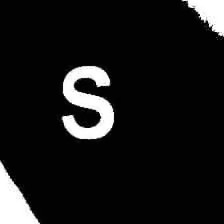LTR_S: (57, 63, 115, 140)
